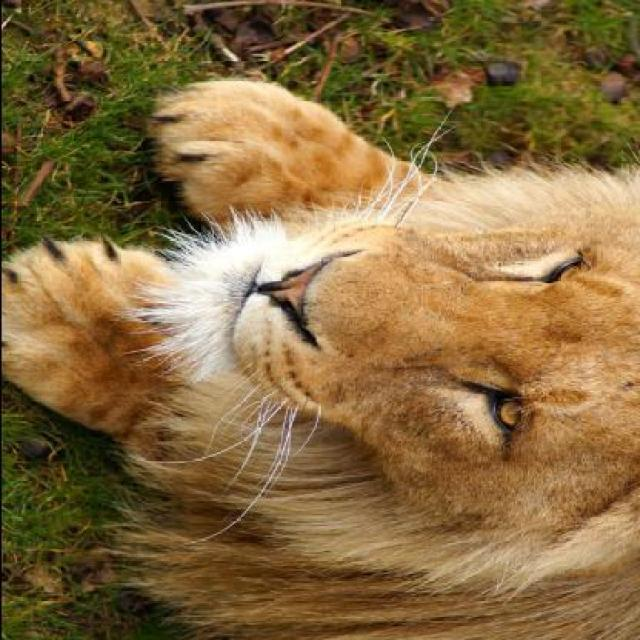Lion: (6, 47, 639, 638)
